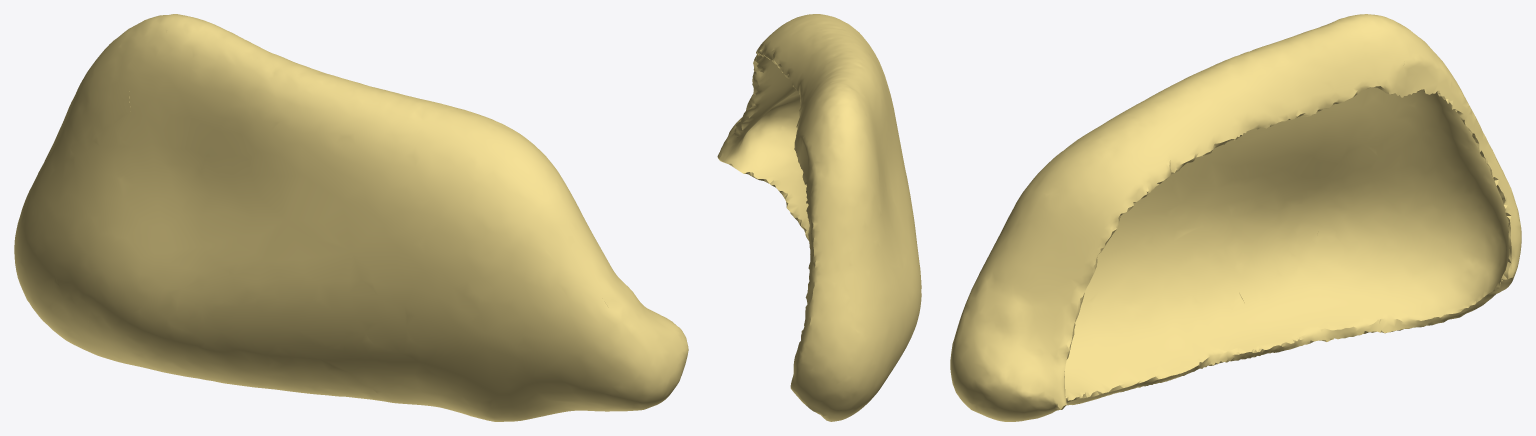
File: fma72945_mm3272m.glb
3 renders of one model, left to right at view 1: azimuth 30°, elevation 25°; view 2: azimuth 150°, elevation 25°; view 3: azimuth 270°, elevation 25°, orthographic. The views are drawn at different scales.
Parts seen in each view (by area): view 1: FMA72945_MM3272M; view 2: FMA72945_MM3272M; view 3: FMA72945_MM3272M.
Boxes of the visible parts, bbox=[...] form: FMA72945_MM3272M: bbox=[14, 14, 688, 421]; FMA72945_MM3272M: bbox=[717, 14, 921, 421]; FMA72945_MM3272M: bbox=[950, 14, 1521, 421].
Size of the model in its own units: 0.0205 by 0.0167 by 0.0265.
